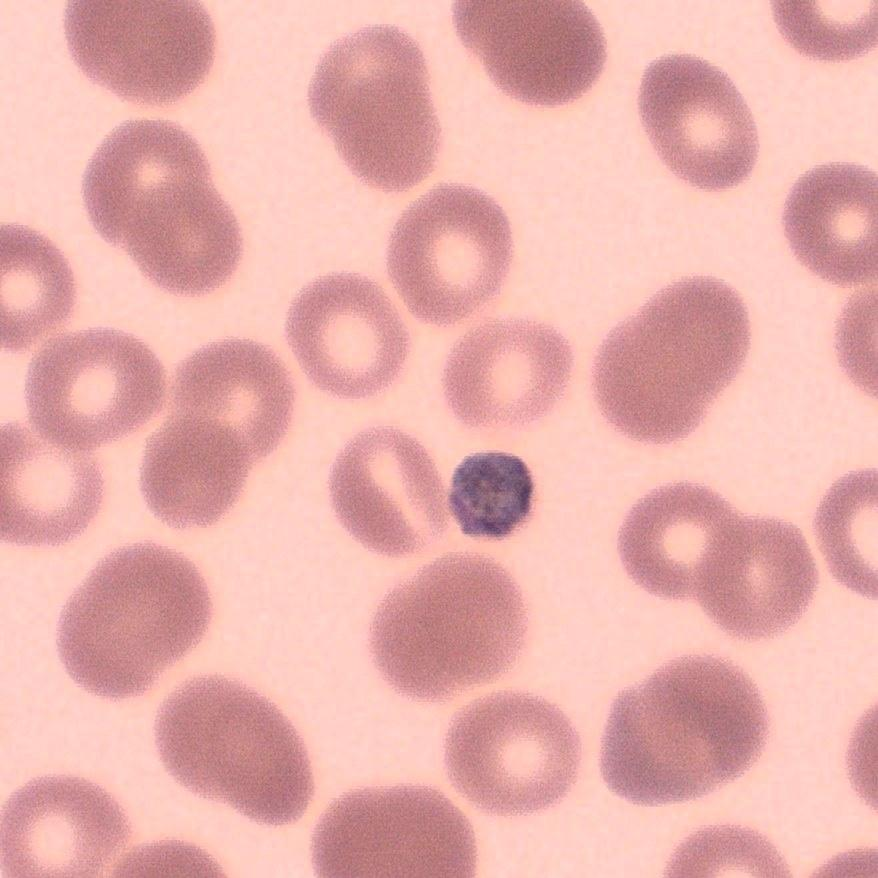Infected: (442, 450, 537, 543)
Uninfected: (635, 646, 768, 785), (15, 326, 157, 450), (635, 48, 760, 188), (62, 0, 215, 109), (390, 188, 507, 328), (310, 781, 478, 878), (170, 336, 287, 473), (98, 538, 213, 673), (460, 0, 600, 108), (445, 696, 577, 808), (80, 121, 208, 234), (615, 473, 737, 591), (283, 276, 403, 395), (690, 516, 810, 631), (130, 176, 240, 301), (2, 771, 130, 878), (630, 278, 747, 395), (330, 426, 437, 553), (588, 686, 698, 808), (330, 73, 438, 194), (422, 563, 520, 691), (150, 671, 253, 790), (450, 321, 562, 428), (310, 28, 423, 133), (0, 428, 100, 545), (213, 701, 308, 823), (143, 421, 248, 531), (595, 333, 700, 440), (785, 161, 878, 274), (0, 221, 80, 351), (60, 583, 143, 698), (370, 591, 460, 693)
